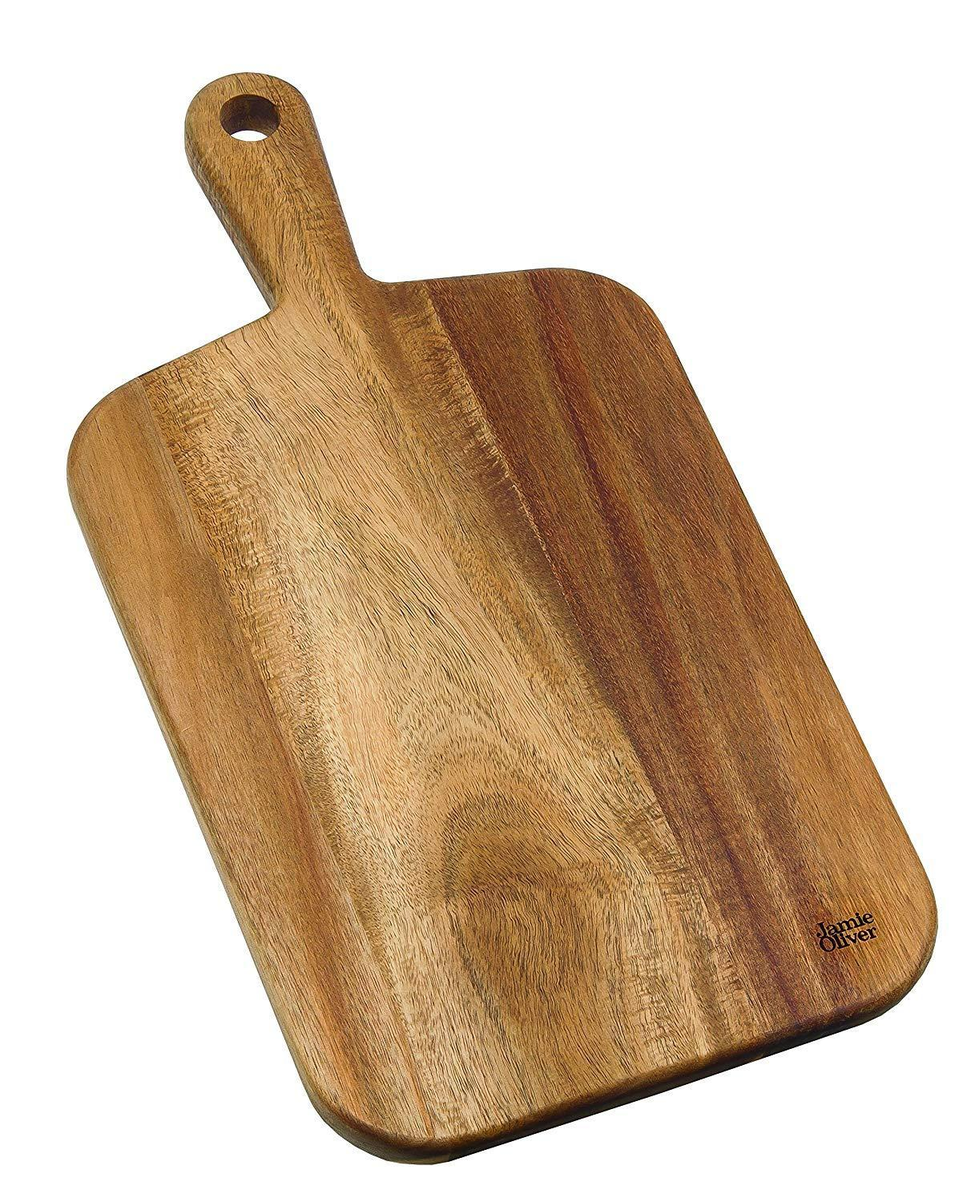gloved_hand: (57, 49, 951, 1169)
